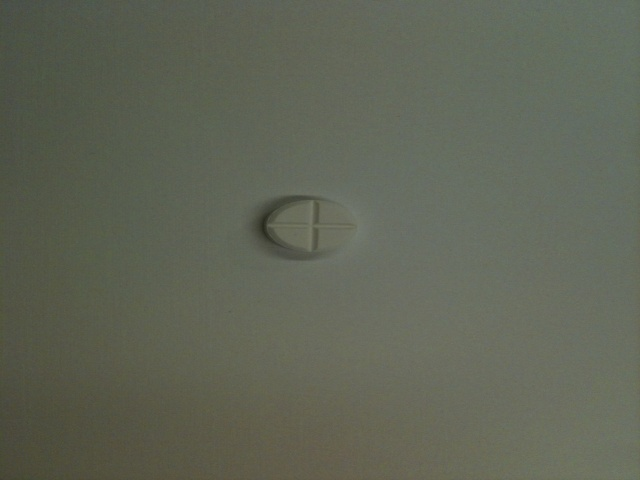|: (264, 214, 360, 236), (302, 200, 329, 254)
